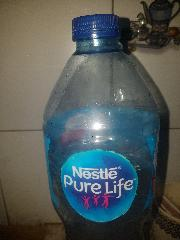plastic: (42, 14, 160, 238)
